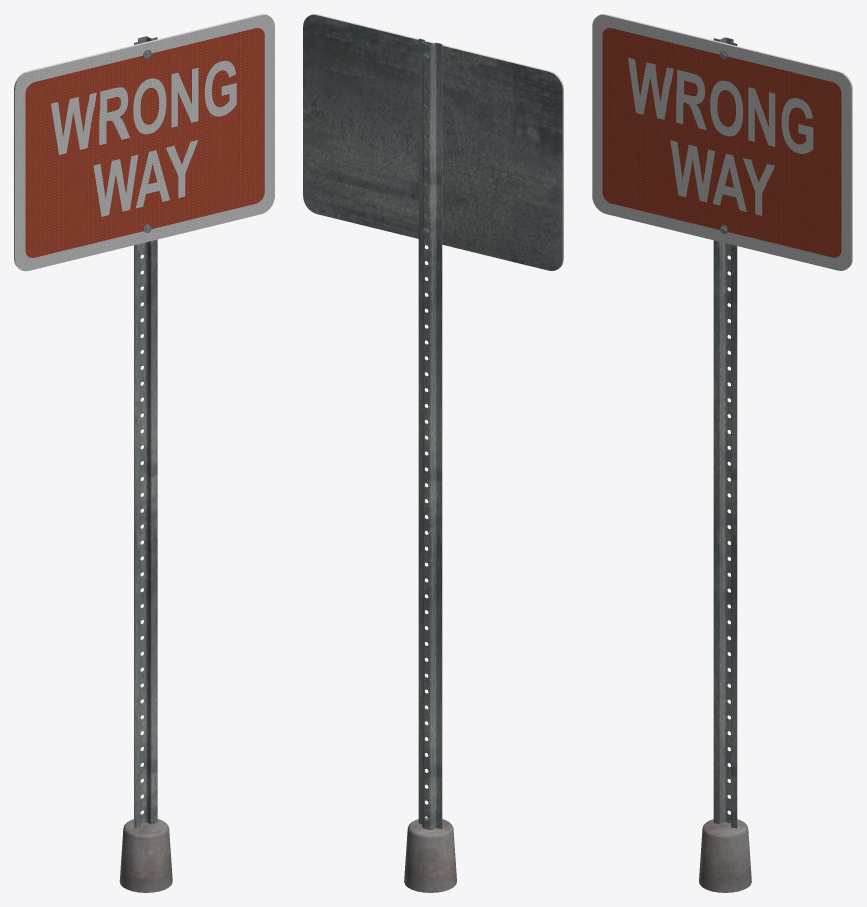
File: wrongway_nsoc.obj
3 views of the same model, side by side, from view 1: azimuth 30°, elevation 25°; view 2: azimuth 150°, elevation 25°; view 3: azimuth 330°, elevation 25° (orthographic).
Parts seen in each view (by area): view 1: sign_wrong_way; view 2: sign_wrong_way; view 3: sign_wrong_way.
Boxes of the visible parts, bbox=[...] form: sign_wrong_way: bbox=[14, 14, 274, 892]; sign_wrong_way: bbox=[303, 14, 563, 892]; sign_wrong_way: bbox=[592, 14, 852, 892].
Size of the model in its own units: 33.06 by 102 by 5.84.
3 materials, 3 textured.
